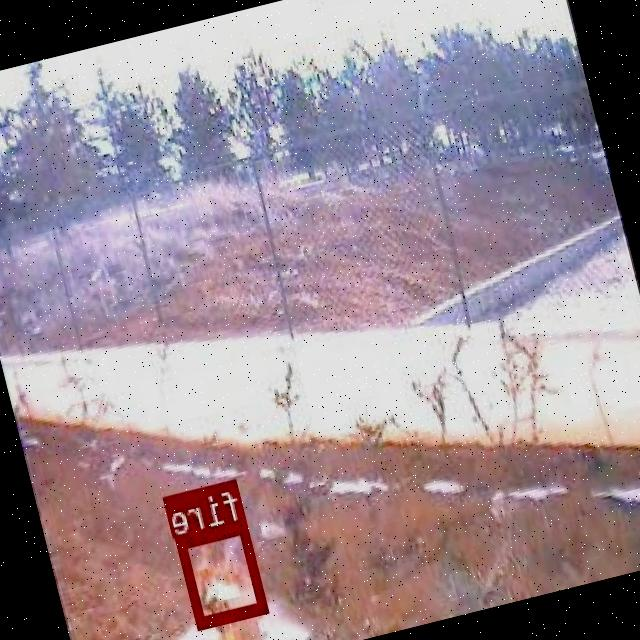fire: (178, 518, 270, 626)
